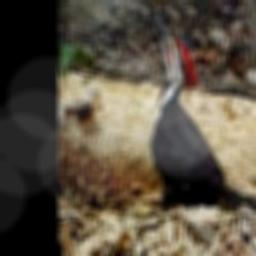Woodpecker: (149, 19, 256, 212)
